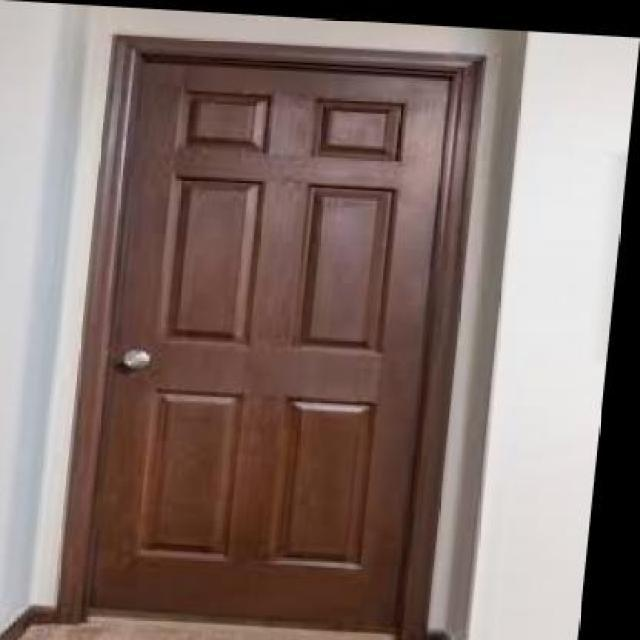door: (81, 41, 457, 638)
